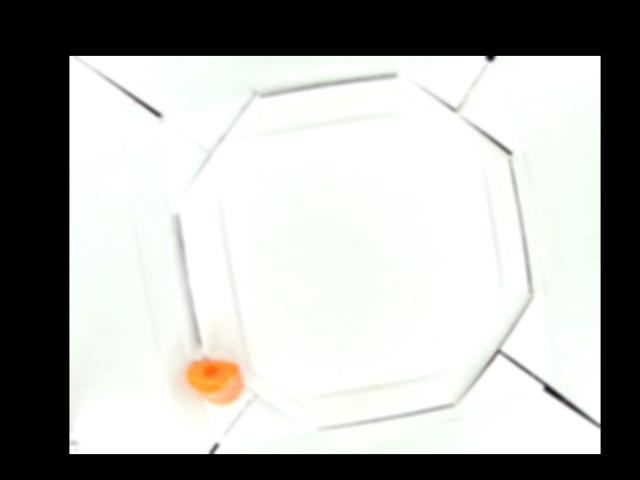Carrot: (188, 358, 243, 404)
